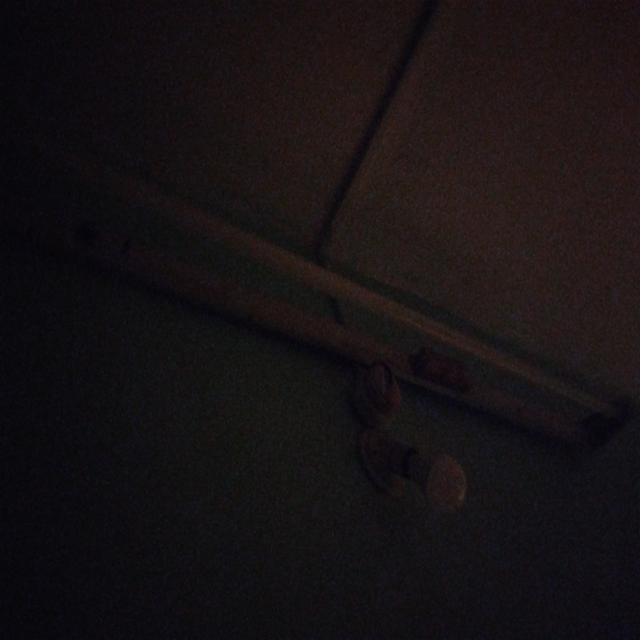tubelight_off: (4, 122, 637, 460)
